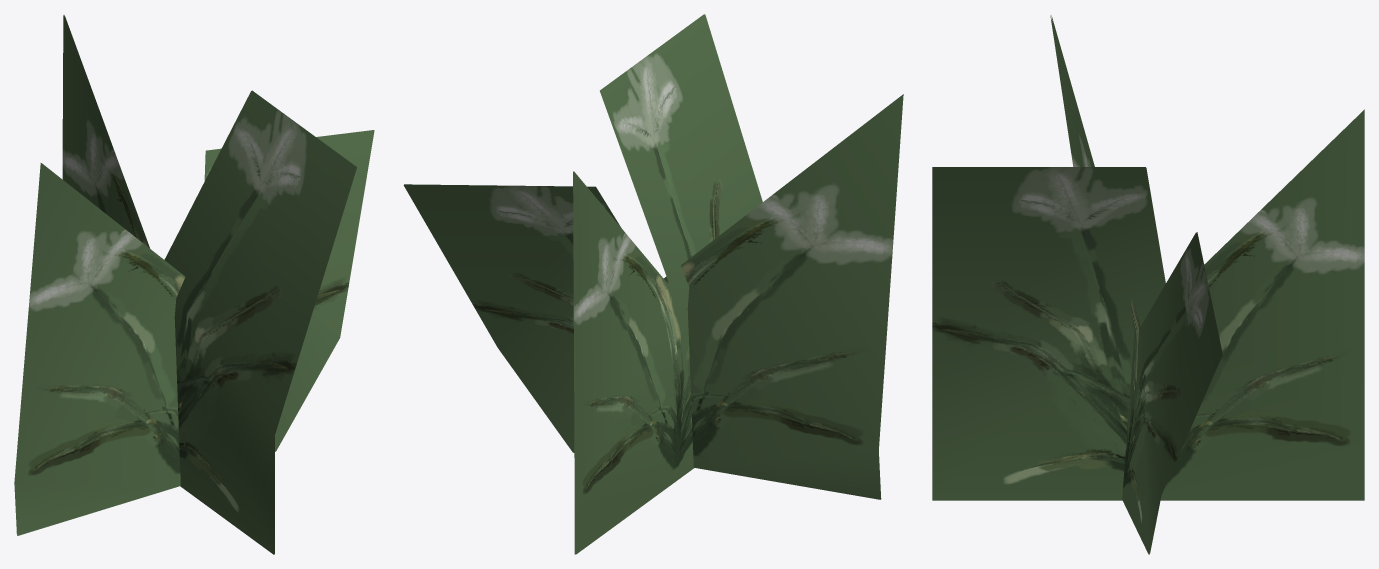
Rendered from BgMD_Tanihira_PlantHimeshiba_01_01.fbx.
The picture shows the model from 3 angles, left to right: view 1: azimuth 30°, elevation 25°; view 2: azimuth 150°, elevation 25°; view 3: azimuth 270°, elevation 25°; orthographic projection. The views are drawn at different scales.
Parts seen in each view (by area): view 1: pPlane9; view 2: pPlane9; view 3: pPlane9.
Part boxes in pixels (box(x1,y1,x2,y2)): pPlane9: box(14, 15, 374, 554); pPlane9: box(403, 14, 903, 554); pPlane9: box(932, 15, 1364, 554).
Size of the model in its own units: 22.75 by 20.44 by 20.
